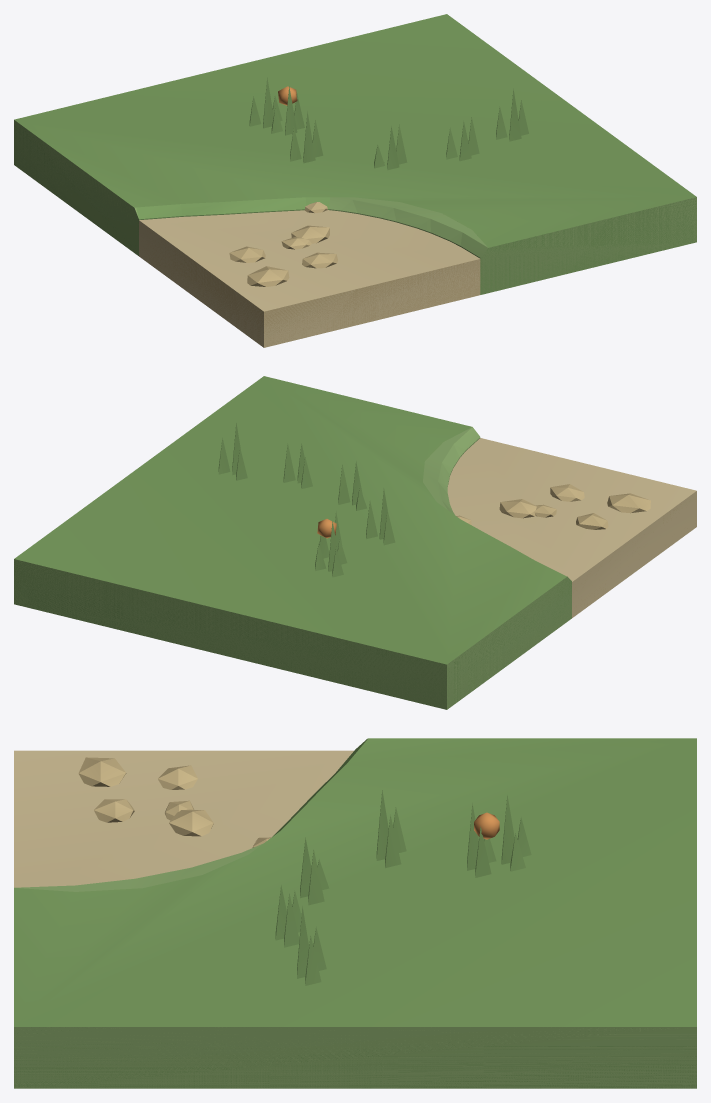
File: terrain.sand.outer.glb
The picture shows the model from 3 angles, top to bottom: view 1: azimuth 30°, elevation 25°; view 2: azimuth 150°, elevation 25°; view 3: azimuth 270°, elevation 25°; orthographic projection. The views are drawn at different scales.
Parts seen in each view (by area): view 1: terrain.sand.outer.v1.mesh, terrain.sand.outer.v0.mesh, terrain.sand.outer.v2.mesh; view 2: terrain.sand.outer.v1.mesh, terrain.sand.outer.v0.mesh, terrain.sand.outer.v2.mesh; view 3: terrain.sand.outer.v1.mesh, terrain.sand.outer.v2.mesh, terrain.sand.outer.v0.mesh.
Boxes of the visible parts, x1,y1,x2,y2 form: terrain.sand.outer.v1.mesh: (14,14,696,347); terrain.sand.outer.v0.mesh: (14,87,696,347); terrain.sand.outer.v2.mesh: (14,78,696,347); terrain.sand.outer.v1.mesh: (14,376,695,708); terrain.sand.outer.v0.mesh: (14,427,696,709); terrain.sand.outer.v2.mesh: (14,438,696,709); terrain.sand.outer.v1.mesh: (14,738,696,1088); terrain.sand.outer.v2.mesh: (14,750,696,1088); terrain.sand.outer.v0.mesh: (14,738,696,1088).
Bounding box in the file's own units: 1 × 0.212 × 1.
